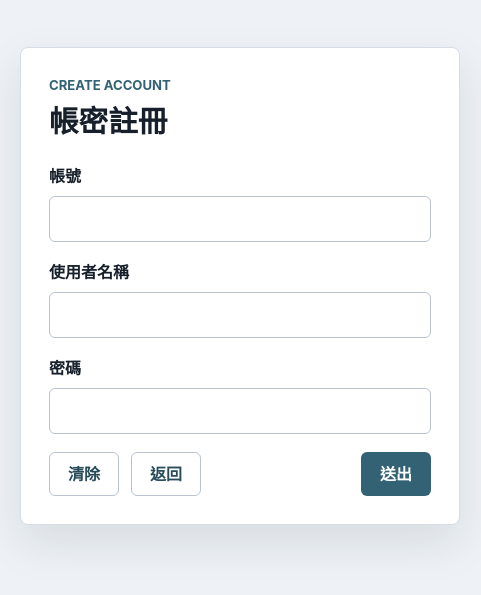
Test: RegisterView › 清除按鈕會清空帳號密碼與訊息
Click the button "送出" at {"x": 396, "y": 474}, box [361, 452, 431, 496]
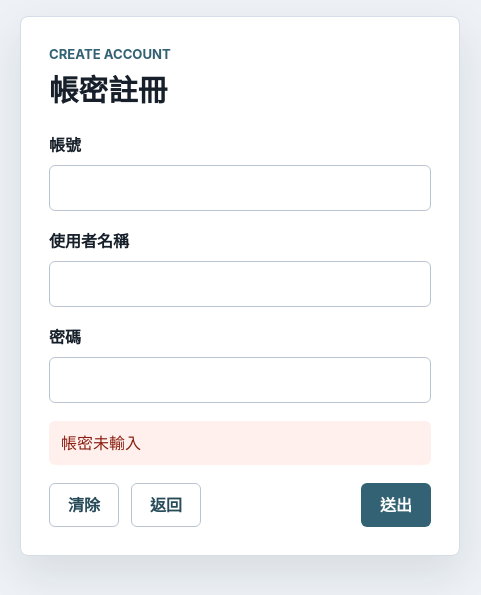
Result: the message "帳密未輸入" is shown at [49, 421, 431, 465]
Type "NEWUSER1" into the field labelled "帳號" at {"x": 240, "y": 188}, box [49, 165, 431, 211]
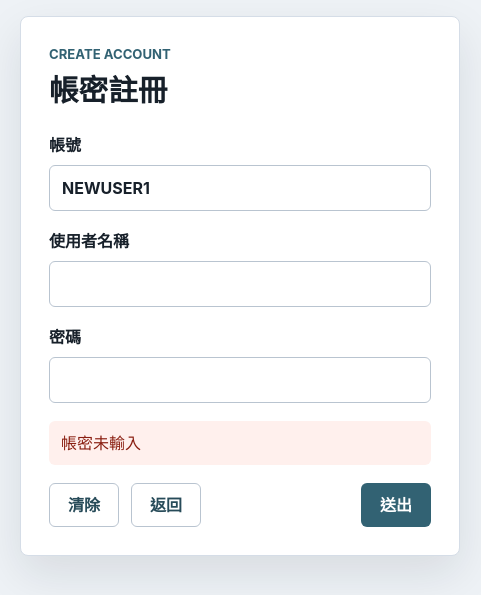
Type "王小明" into the field labelled "使用者名稱" at {"x": 240, "y": 284}, box [49, 261, 431, 307]
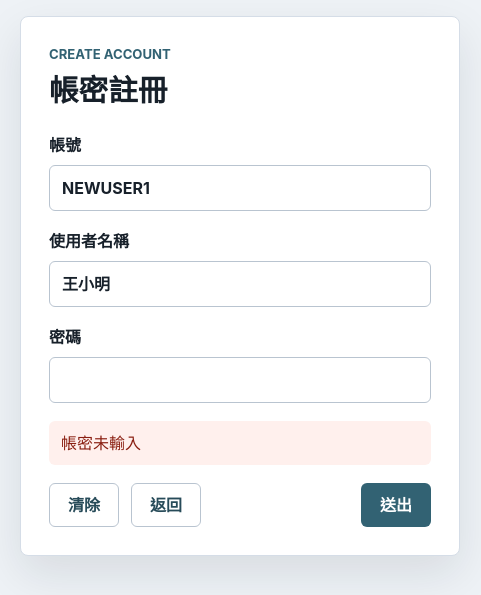
Type "DemoPass123!" into the password field labelled "密碼" at {"x": 240, "y": 380}, box [49, 357, 431, 403]
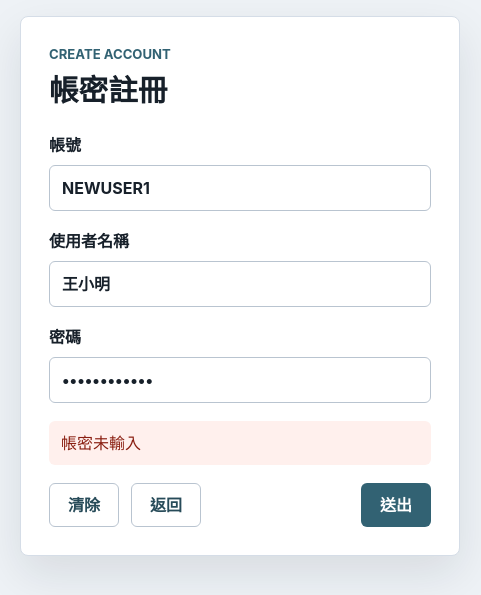
Click the button "清除" at {"x": 84, "y": 505}, box [49, 483, 119, 527]
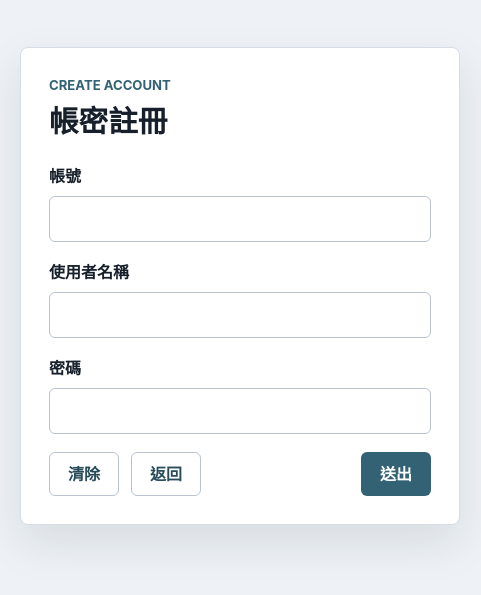
Result: the field labelled "帳號" is empty at [49, 196, 431, 242]
Result: the field labelled "使用者名稱" is empty at [49, 292, 431, 338]
Result: the password field labelled "密碼" is empty at [49, 388, 431, 434]
